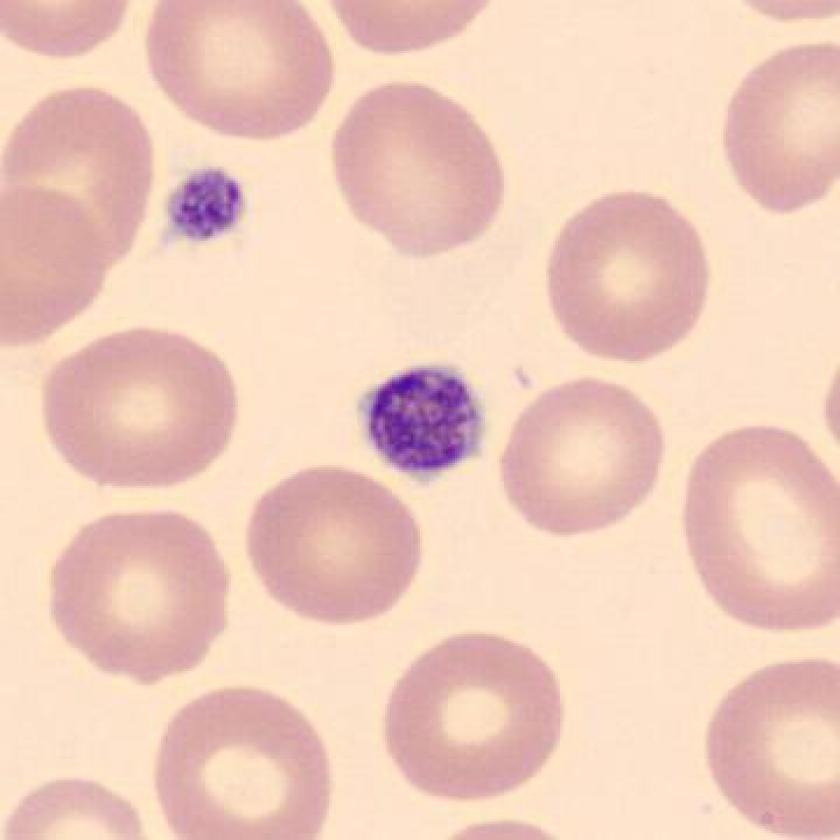platelets: (349, 355, 500, 492), (155, 161, 260, 256)
